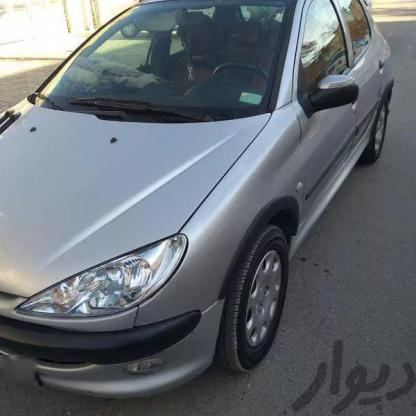Car: (0, 0, 400, 383)
